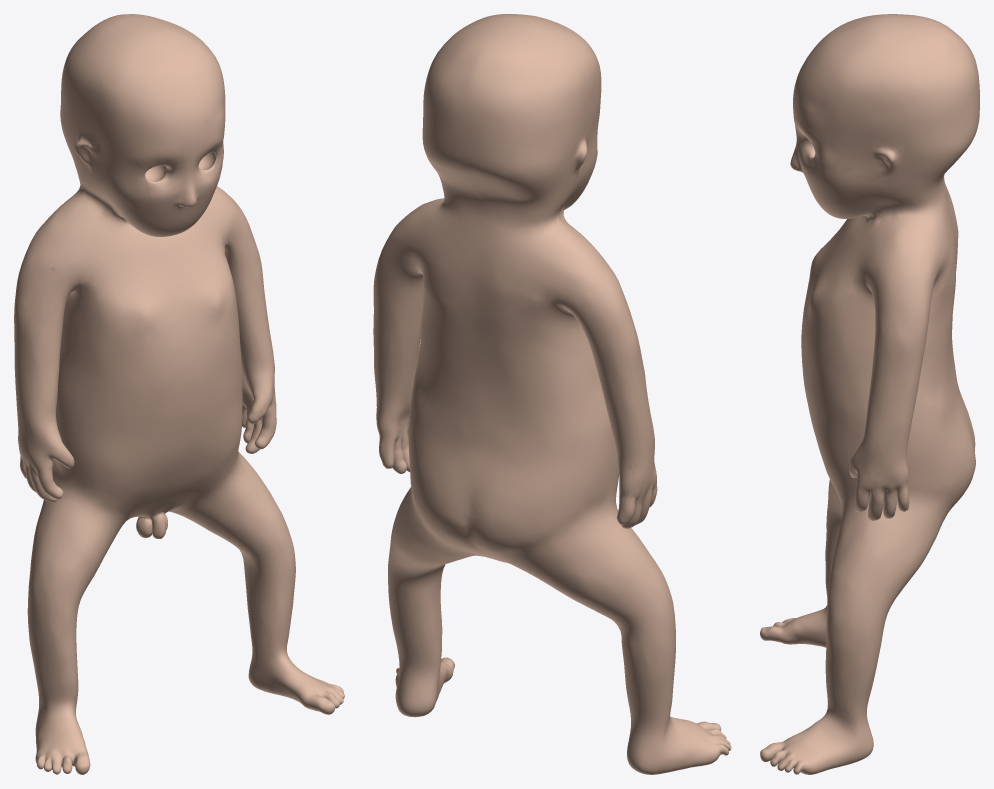
Rendered from pediatric_neonate_male.surface.LOD0.glb.
3 renders of one model, left to right at view 1: azimuth 30°, elevation 25°; view 2: azimuth 150°, elevation 25°; view 3: azimuth 270°, elevation 25°, orthographic. The views are drawn at different scales.
Visible parts, largest first — view 1: PEDIATRIC.NEONATE.MALE.SURFACE.SKIN; view 2: PEDIATRIC.NEONATE.MALE.SURFACE.SKIN; view 3: PEDIATRIC.NEONATE.MALE.SURFACE.SKIN.
Boxes of the visible parts, x1,y1,x2,y2 form: PEDIATRIC.NEONATE.MALE.SURFACE.SKIN: [14, 14, 344, 774]; PEDIATRIC.NEONATE.MALE.SURFACE.SKIN: [373, 14, 731, 774]; PEDIATRIC.NEONATE.MALE.SURFACE.SKIN: [760, 14, 979, 774].
Size of the model in its own units: 0.2276 by 0.4813 by 0.1405.
